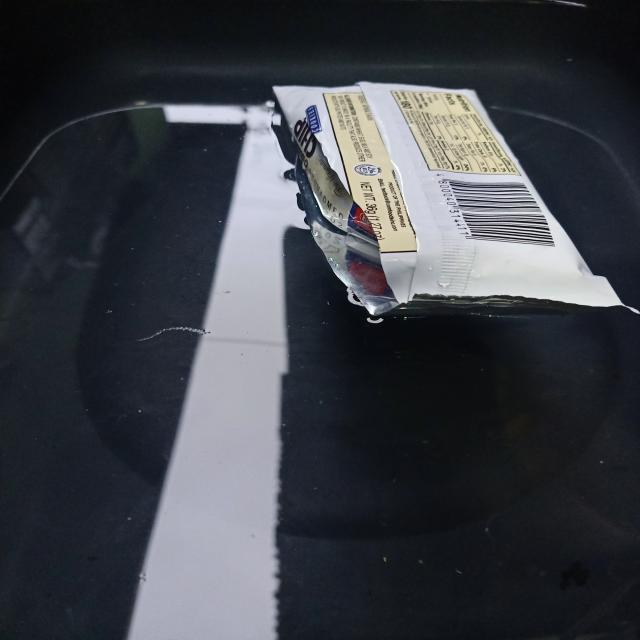Plastic Wrapper: (275, 82, 623, 316), (386, 237, 389, 240)
